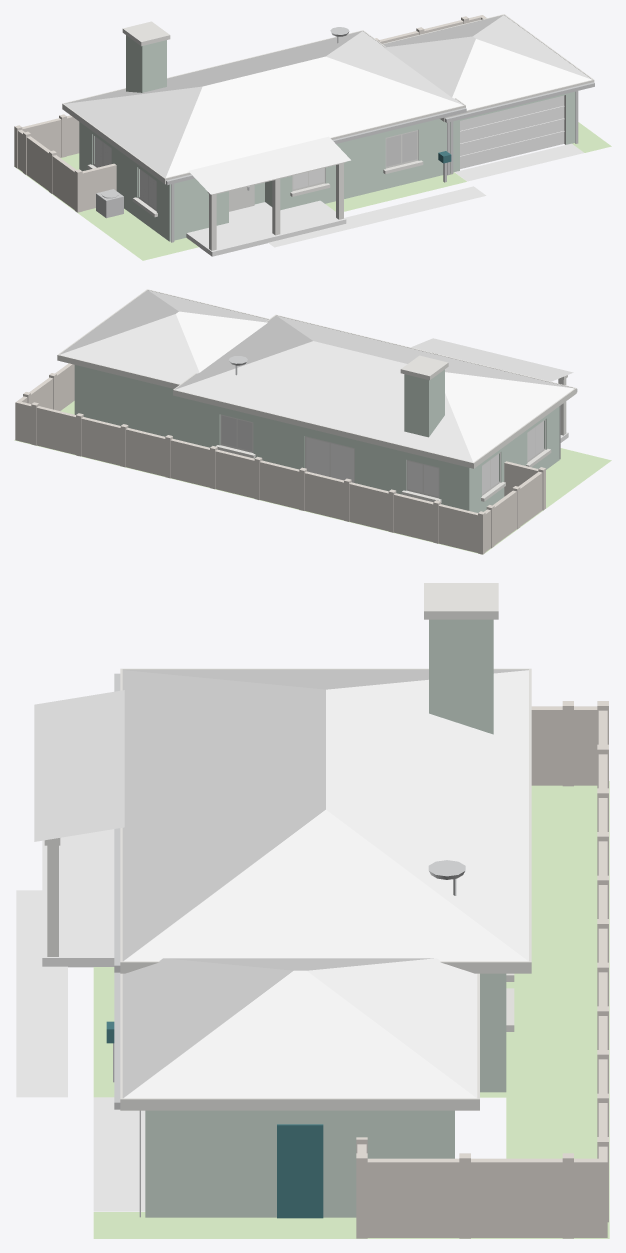
File: house_ranch84s.glb
3 renders of one model, top to bottom at view 1: azimuth 30°, elevation 25°; view 2: azimuth 150°, elevation 25°; view 3: azimuth 270°, elevation 25°, orthographic. The views are drawn at different scales.
Visible parts, largest first — view 1: house_ranch84s_Roof, house_ranch84s_Walls, house_ranch84s_Site, house_ranch84s_Walls2, house_ranch84s_Trim, house_ranch84s_Doors, house_ranch84s_Lawn, house_ranch84s_Details, house_ranch84s_Glass, house_ranch84s_Frames, house_ranch84s_WindowsLit; view 2: house_ranch84s_Roof, house_ranch84s_Walls2, house_ranch84s_Walls, house_ranch84s_Trim, house_ranch84s_Glass, house_ranch84s_Lawn, house_ranch84s_Frames, house_ranch84s_WindowsLit; view 3: house_ranch84s_Roof, house_ranch84s_Lawn, house_ranch84s_Walls, house_ranch84s_Walls2, house_ranch84s_Site, house_ranch84s_Trim, house_ranch84s_Accent, house_ranch84s_Details.
Part boxes in pixels (x1,y1,x2,y2): house_ranch84s_Roof: [64, 15, 591, 194]; house_ranch84s_Walls: [79, 35, 575, 241]; house_ranch84s_Site: [186, 143, 583, 256]; house_ranch84s_Walls2: [14, 15, 486, 212]; house_ranch84s_Trim: [62, 14, 594, 250]; house_ranch84s_Doors: [460, 95, 564, 168]; house_ranch84s_Lawn: [14, 122, 611, 260]; house_ranch84s_Details: [96, 27, 594, 242]; house_ranch84s_Glass: [94, 136, 324, 209]; house_ranch84s_Frames: [93, 130, 418, 211]; house_ranch84s_WindowsLit: [386, 131, 417, 166]; house_ranch84s_Roof: [59, 290, 574, 462]; house_ranch84s_Walls2: [15, 363, 545, 554]; house_ranch84s_Walls: [74, 365, 559, 512]; house_ranch84s_Trim: [57, 289, 576, 502]; house_ranch84s_Glass: [306, 421, 543, 496]; house_ranch84s_Lawn: [14, 401, 611, 554]; house_ranch84s_Frames: [220, 414, 545, 498]; house_ranch84s_WindowsLit: [221, 415, 252, 450]; house_ranch84s_Roof: [34, 670, 528, 1098]; house_ranch84s_Lawn: [93, 781, 609, 1238]; house_ranch84s_Walls: [145, 619, 506, 1217]; house_ranch84s_Walls2: [356, 701, 608, 1238]; house_ranch84s_Site: [16, 829, 145, 1211]; house_ranch84s_Trim: [44, 583, 531, 1110]; house_ranch84s_Accent: [106, 1021, 323, 1218]; house_ranch84s_Details: [113, 673, 465, 1217].
Bounding box in the file's own units: 84 × 23.74 × 46.
